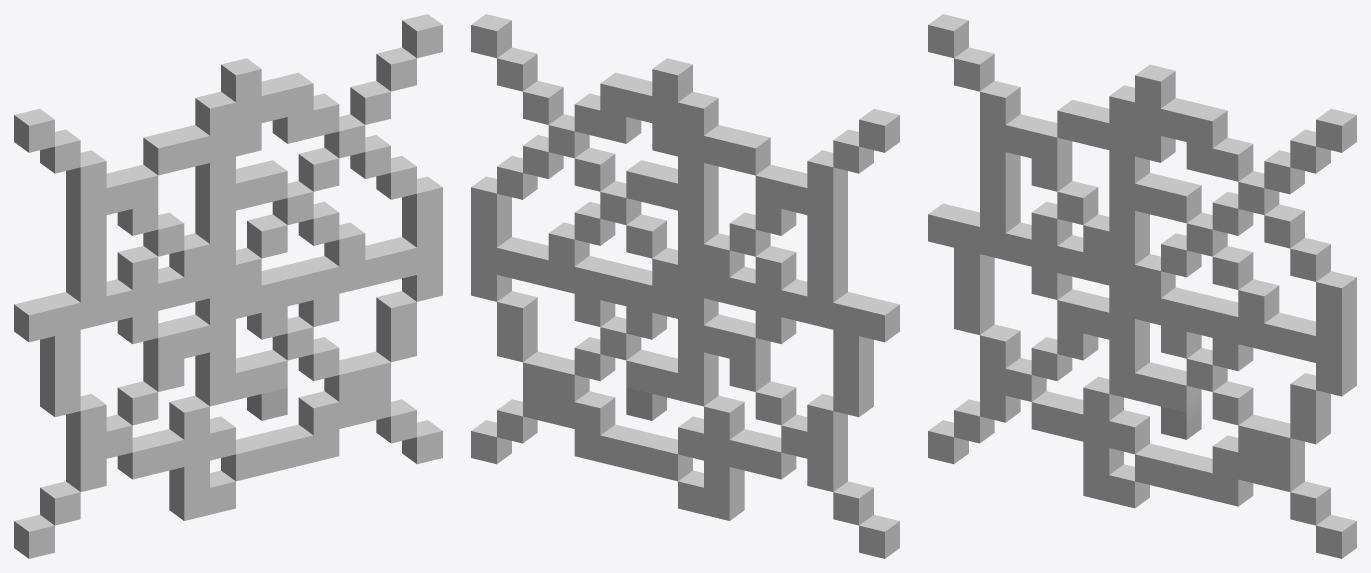
The model's file is web1.fbx.
The picture shows the model from 3 angles, left to right: view 1: azimuth 30°, elevation 25°; view 2: azimuth 150°, elevation 25°; view 3: azimuth 330°, elevation 25°; orthographic projection.
Parts seen in each view (by area): view 1: web1; view 2: web1; view 3: web1.
Part boxes in pixels (x1,y1,x2,y2): web1: (14, 14, 442, 558); web1: (471, 14, 899, 558); web1: (928, 14, 1356, 558).
Size of the model in its own units: 16 by 16 by 1.
1 material, 1 textured.
